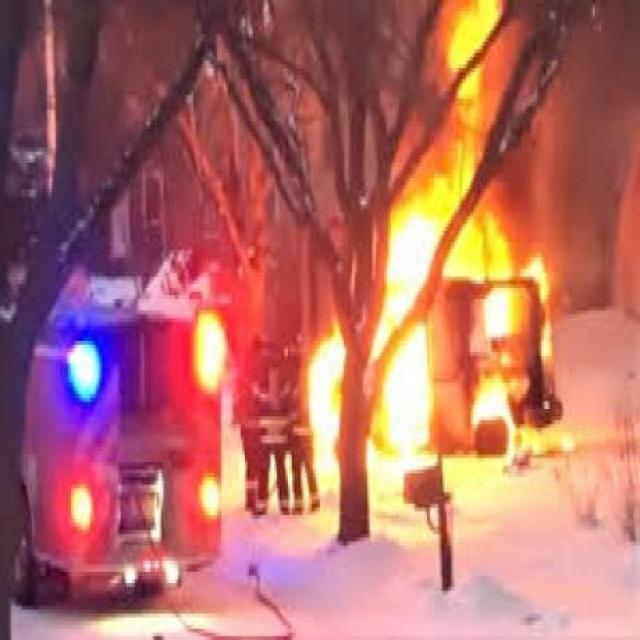Fire: (306, 0, 565, 494)
